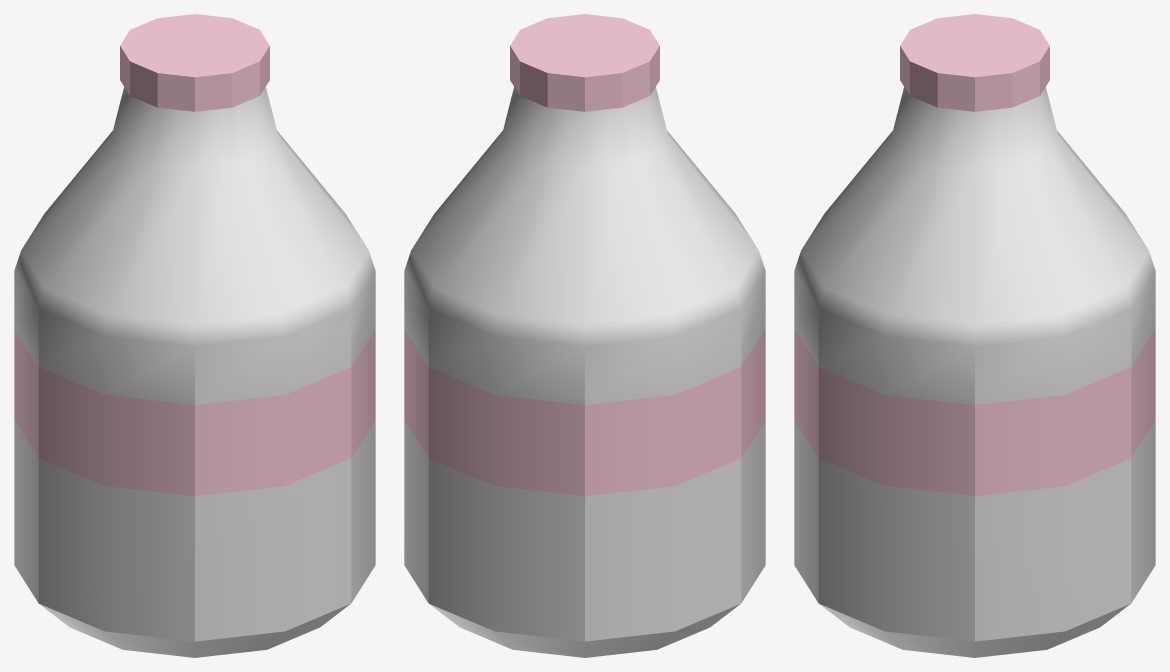
Rendered from Ürün65.fbx.
3 views of the same model, side by side, from view 1: azimuth 30°, elevation 25°; view 2: azimuth 150°, elevation 25°; view 3: azimuth 270°, elevation 25° (orthographic).
Visible parts, largest first — view 1: pCylinder42; view 2: pCylinder42; view 3: pCylinder42.
Part boxes in pixels (box(x1,y1,x2,y2)): pCylinder42: box(14, 14, 375, 657); pCylinder42: box(404, 14, 765, 657); pCylinder42: box(794, 14, 1155, 657).
Size of the model in its own units: 22.2 by 37.39 by 22.2.
